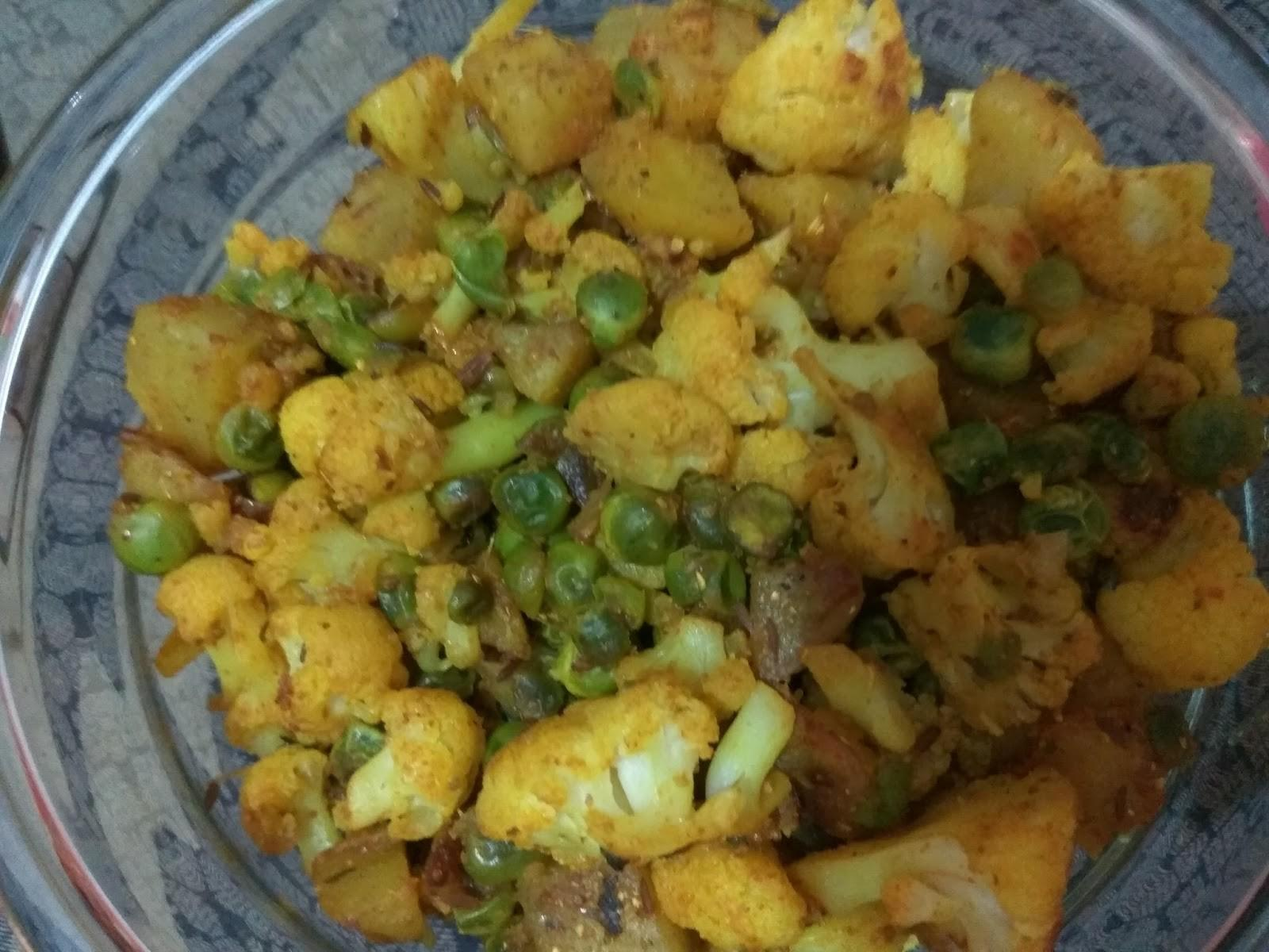AlooGobi: (118, 0, 1269, 952)
